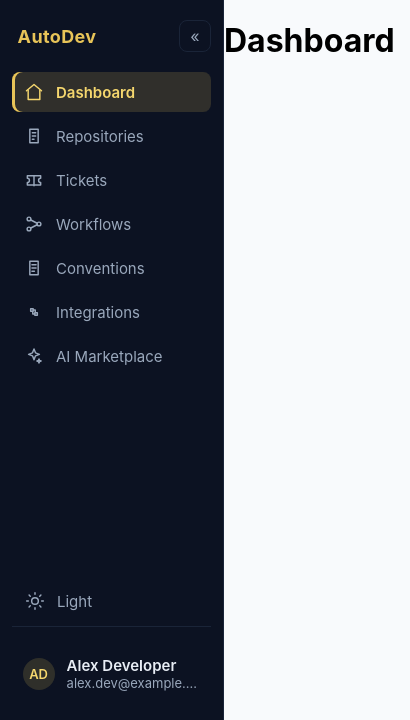
it: ProtectedRoute integration › opens a single SSE connection and heartbeat across protected route navigations
This screenshot has width=410, height=720.
Click the link "Tickets". click: (66, 180)
box: 24,170 -> 107,190
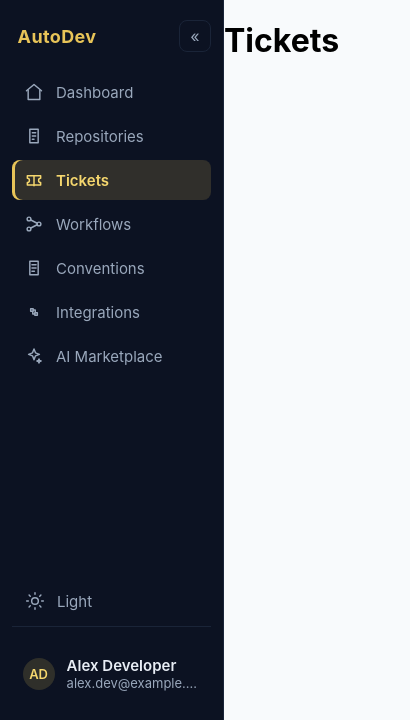
Expected: the heading "Tickets" is shown, 224,21 -> 339,60
Click the link "Workflows". click: (78, 224)
box: 24,214 -> 131,234
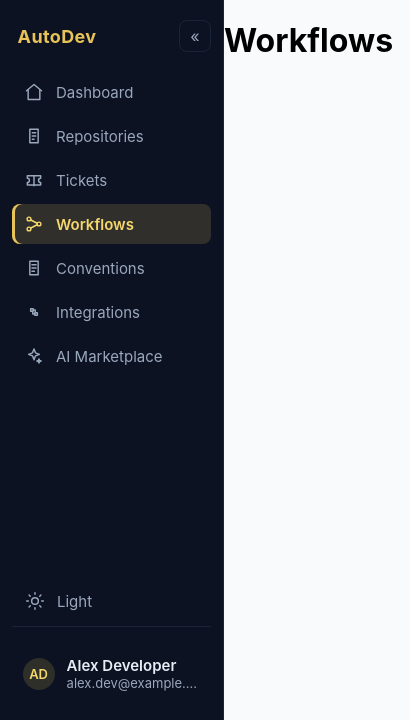
Expected: the heading "Workflows" is shown, 224,21 -> 393,60
